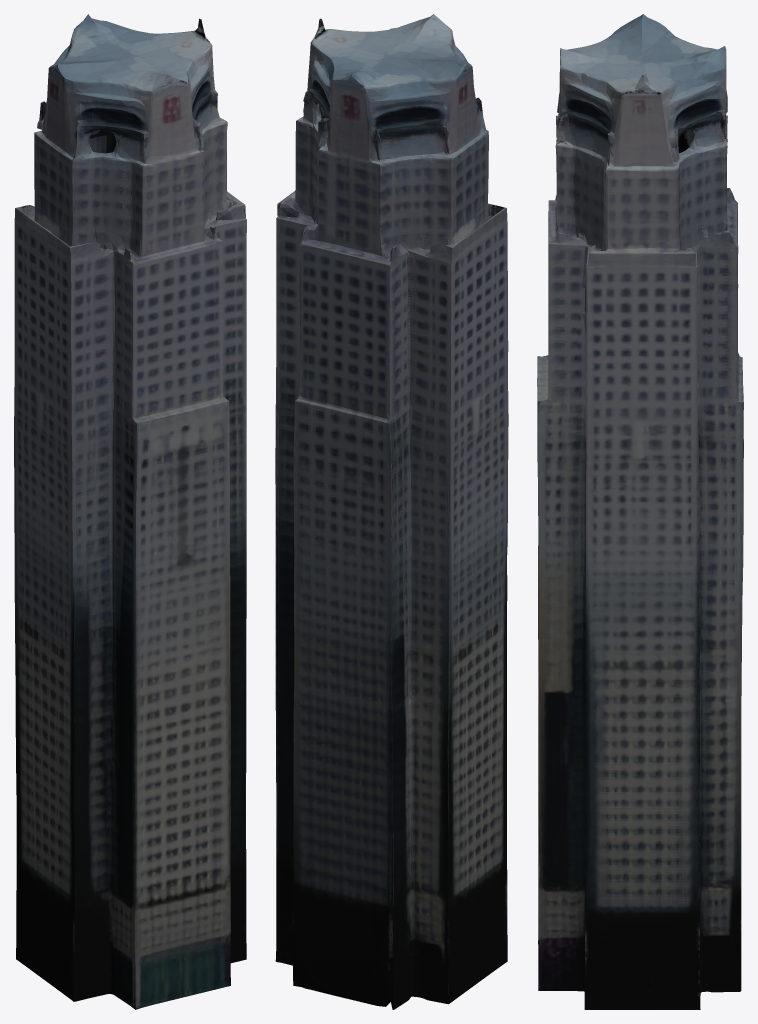
The model's file is sg_uob_high01.glb.
The picture shows the model from 3 angles, left to right: view 1: azimuth 30°, elevation 25°; view 2: azimuth 150°, elevation 25°; view 3: azimuth 270°, elevation 25°; orthographic projection.
Visible parts, largest first — view 1: world; view 2: world; view 3: world.
Part boxes in pixels (bbox=[...]): world: bbox=[14, 14, 246, 1009]; world: bbox=[275, 14, 508, 1009]; world: bbox=[537, 14, 743, 1009].
Size of the model in its own units: 0.1994 by 0.9976 by 0.2014.
Materials: 1 (1 with a texture image).
